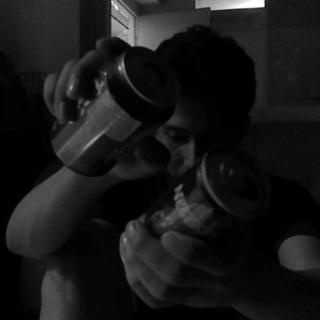alumunium_can: (49, 40, 180, 178), (135, 142, 278, 242)
